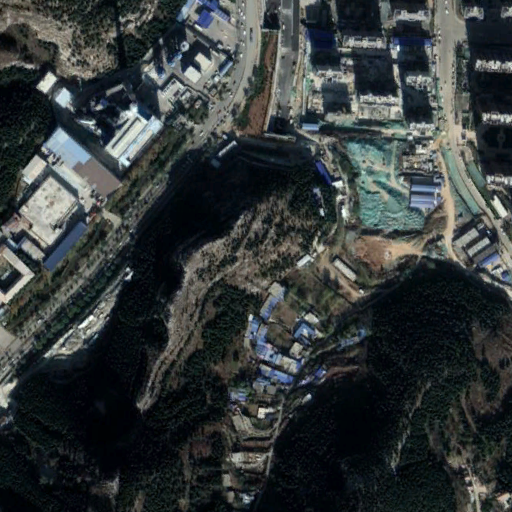cw: (339, 123, 426, 231), (443, 144, 491, 221)
